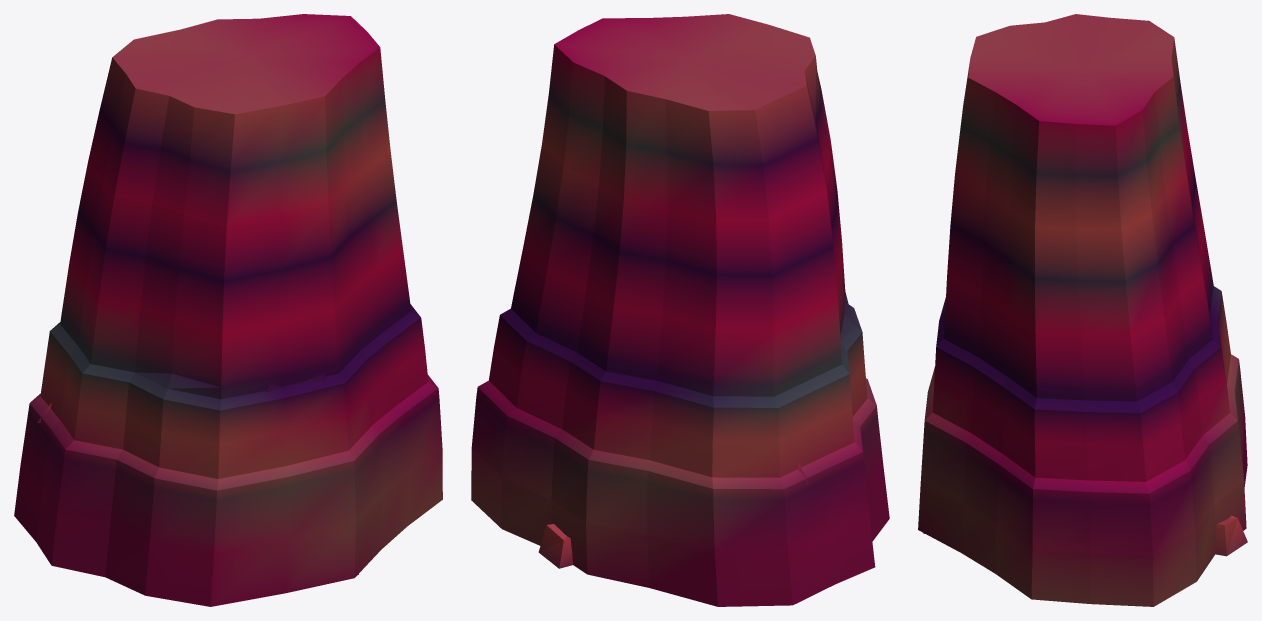
The model's file is SM_CinderCanyon_Rock_A_LOD1.fbx.
The picture shows the model from 3 angles, left to right: view 1: azimuth 30°, elevation 25°; view 2: azimuth 150°, elevation 25°; view 3: azimuth 270°, elevation 25°; orthographic projection. The views are drawn at different scales.
Parts seen in each view (by area): view 1: SM_CinderCanyon_Rock_A_LOD1; view 2: SM_CinderCanyon_Rock_A_LOD1; view 3: SM_CinderCanyon_Rock_A_LOD1.
Boxes of the visible parts, bbox=[...] form: SM_CinderCanyon_Rock_A_LOD1: bbox=[14, 14, 442, 606]; SM_CinderCanyon_Rock_A_LOD1: bbox=[471, 14, 889, 606]; SM_CinderCanyon_Rock_A_LOD1: bbox=[918, 14, 1247, 606].
Size of the model in its own units: 100 by 78 by 118.
